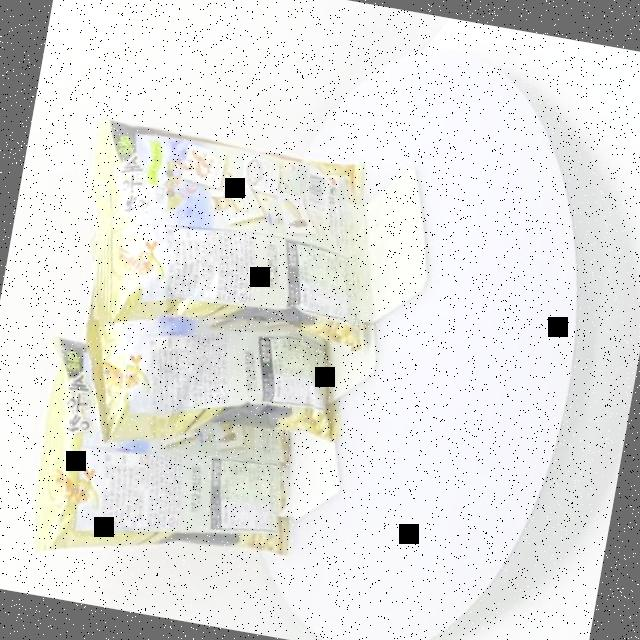snack_bag: (6, 108, 402, 607)
